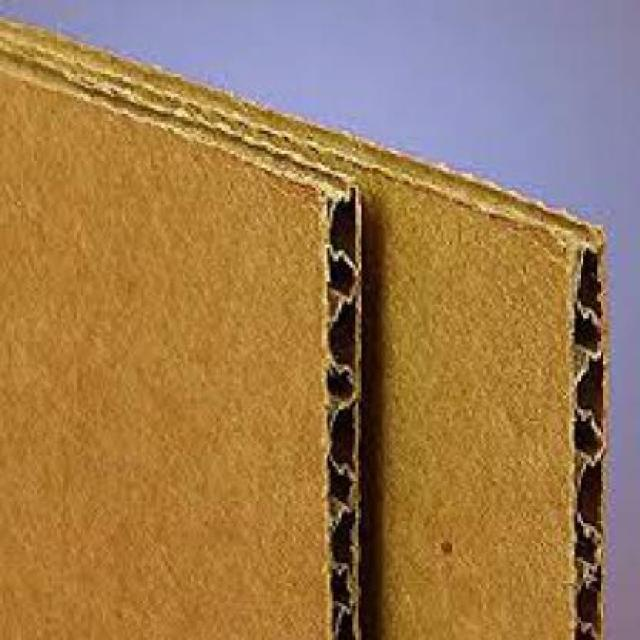CARDBOARD: (0, 11, 612, 637), (0, 34, 362, 637)
